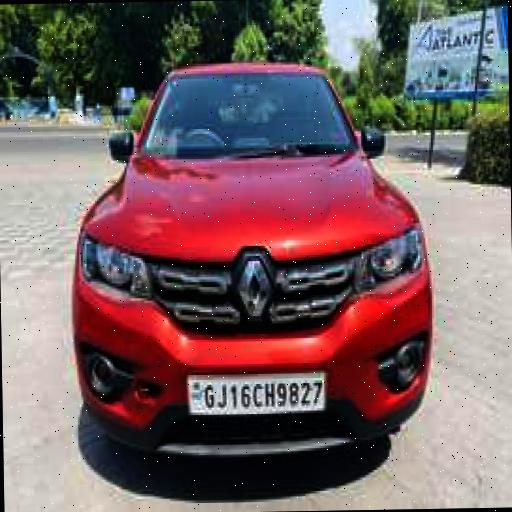license_plate`: (184, 368, 324, 410)
